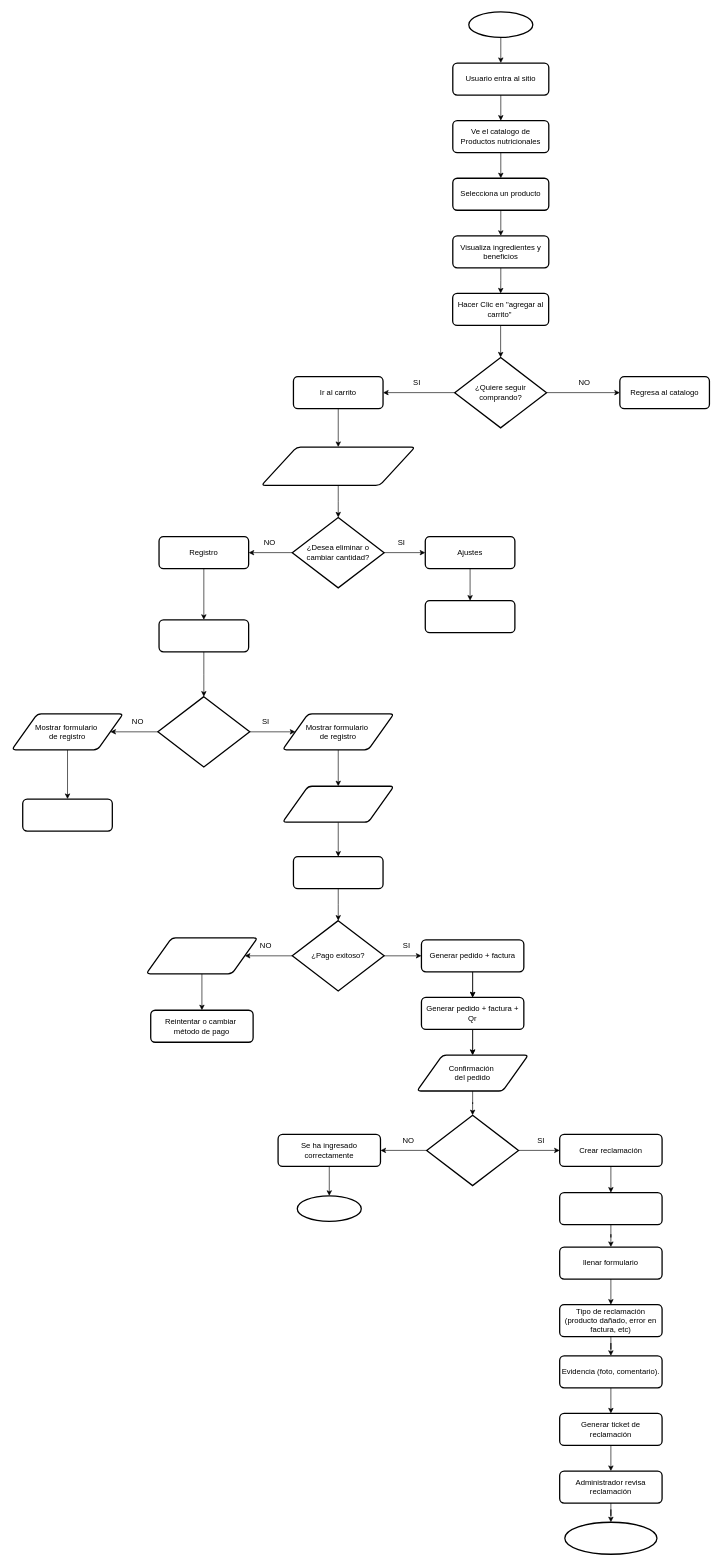
The diagram is 721 pixels wide and 1565 high, and some of its shapes have lost their labels. The shapes that lost their labels are listed below. From the top down, each one's centre as x and y in pixels, then its label:
[500,24]: Inicio
[337,466]: Mostrar productos + total + detalle nutriciona l
[203,635]: Hacer clic en "Checkout"
[469,616]: Recalcular total
[203,731]: ¿Usuario autenticado?
[67,814]: Luego checkout
[338,804]: Mostrar detalles del pedido y formas de pago
[337,872]: Procesar pago
[201,955]: Mostrar error
[472,1150]: ¿Tuviste algún problema con tu pedido?
[329,1208]: Fin
[610,1208]: El sistema abre el módulo de reclamaciones
[610,1538]: Fin del flujo de reclamación
